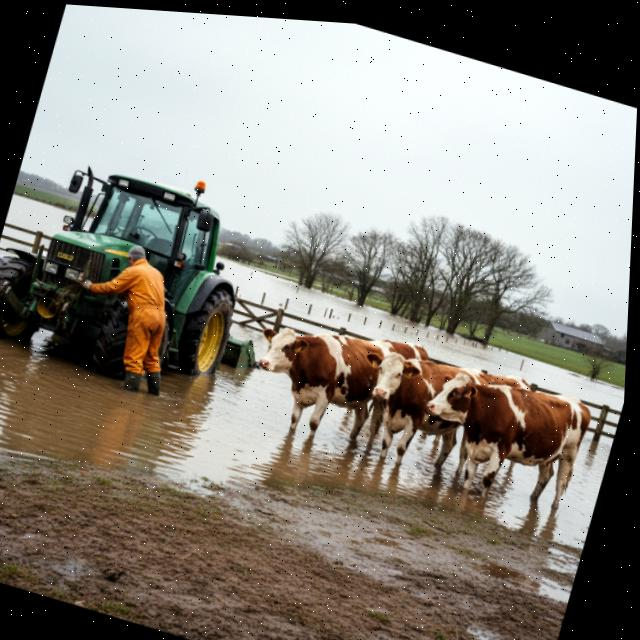civilian: (57, 232, 206, 410)
cow: (397, 348, 607, 536), (229, 298, 443, 473), (338, 339, 526, 504)
